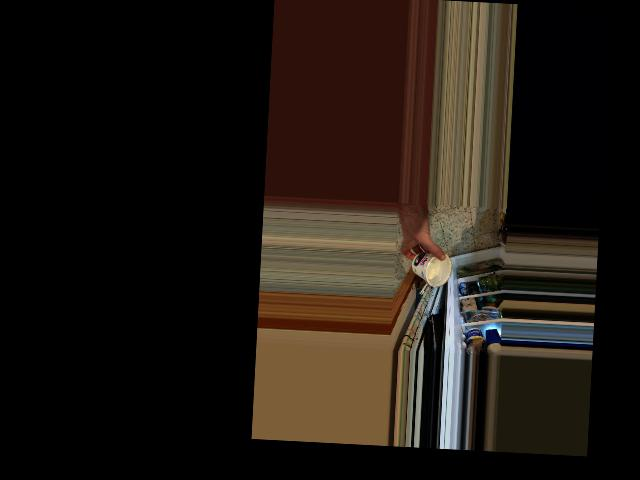cotage: (412, 245, 453, 286)
